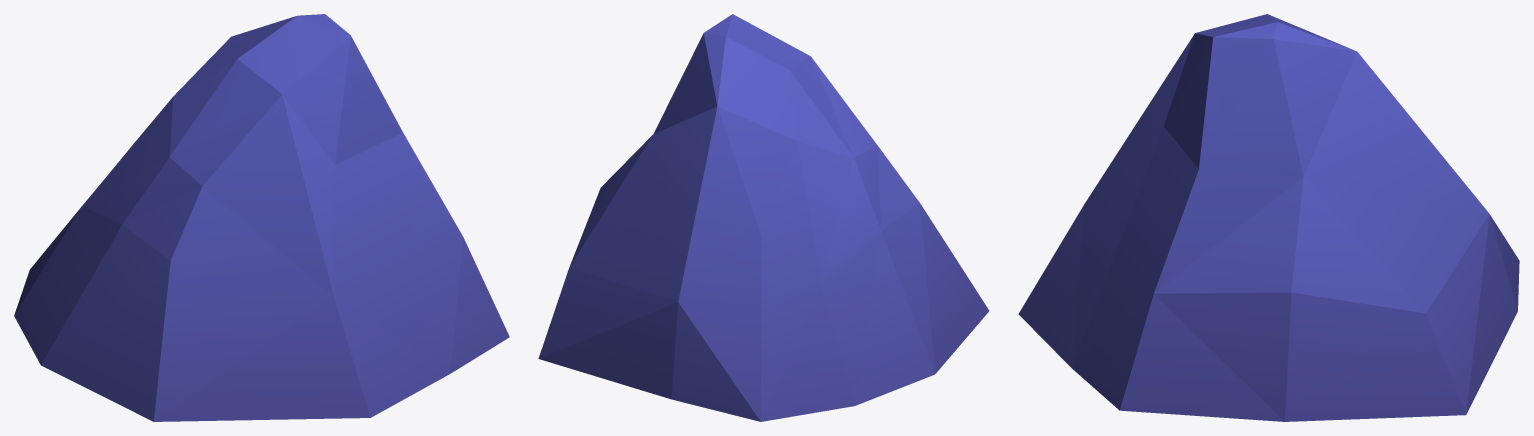
File: Rock_03.fbx
3 renders of one model, left to right at view 1: azimuth 30°, elevation 25°; view 2: azimuth 150°, elevation 25°; view 3: azimuth 270°, elevation 25°, orthographic. The views are drawn at different scales.
Visible parts, largest first — view 1: floe-deep.037; view 2: floe-deep.037; view 3: floe-deep.037.
Boxes of the visible parts, x1,y1,x2,y2 form: floe-deep.037: (14,14,509,421); floe-deep.037: (538,14,989,421); floe-deep.037: (1018,14,1519,421).
Size of the model in its own units: 294 by 220 by 300.
